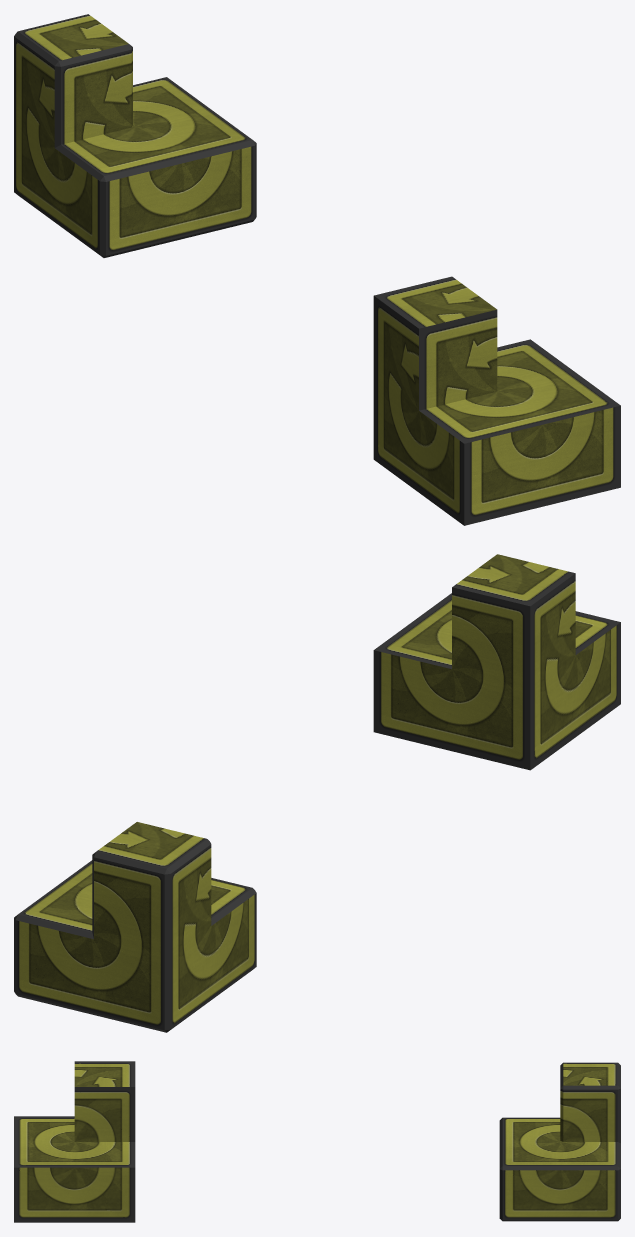
The model's file is step2.outsideCorner.fbx.
3 views of the same model, one above another, from view 1: azimuth 30°, elevation 25°; view 2: azimuth 150°, elevation 25°; view 3: azimuth 270°, elevation 25° (orthographic). The views are drawn at different scales.
Visible parts, largest first — view 1: MESH step2.outsideCorner, MESH step2.outsideCorner.c; view 2: MESH step2.outsideCorner, MESH step2.outsideCorner.c; view 3: MESH step2.outsideCorner, MESH step2.outsideCorner.c.
Boxes of the visible parts, x1,y1,x2,y2 form: MESH step2.outsideCorner: (373,276,620,525); MESH step2.outsideCorner.c: (14,14,256,257); MESH step2.outsideCorner: (373,554,620,770); MESH step2.outsideCorner.c: (14,822,256,1032); MESH step2.outsideCorner: (14,1061,135,1222); MESH step2.outsideCorner.c: (499,1062,620,1221).
Size of what is drawn, in the model's own units: 100 by 100 by 500.
